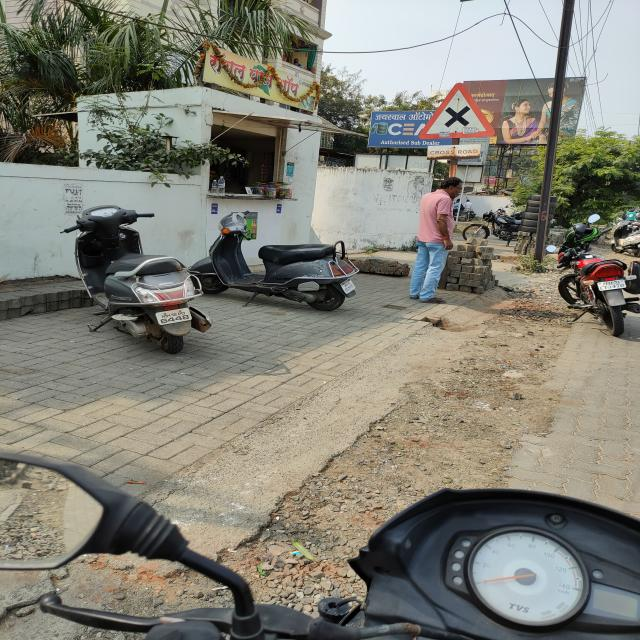cross_road: (416, 82, 499, 142)
